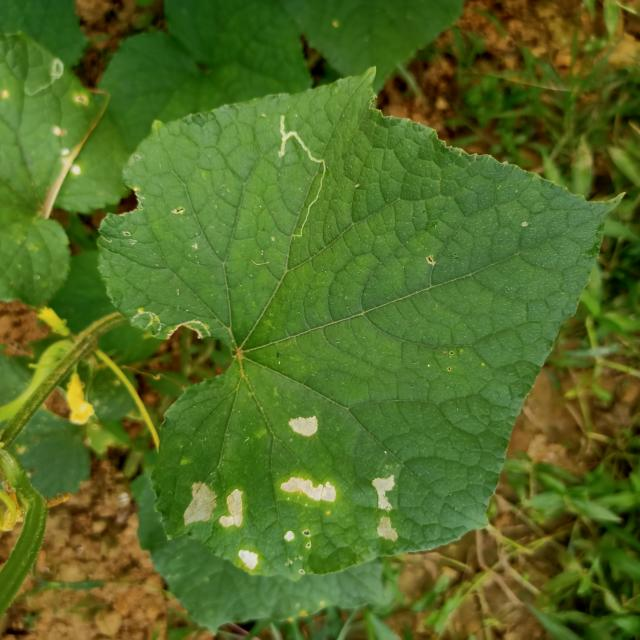disease_cucumber: (178, 472, 344, 574), (368, 470, 401, 544), (282, 408, 322, 446)
